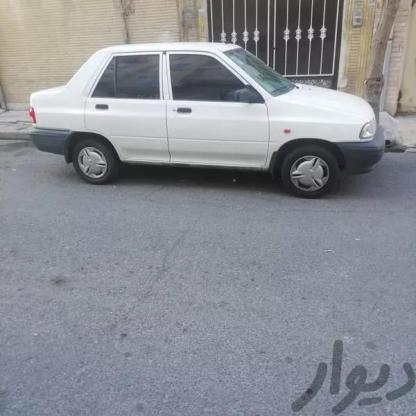Car: (14, 40, 389, 233)
